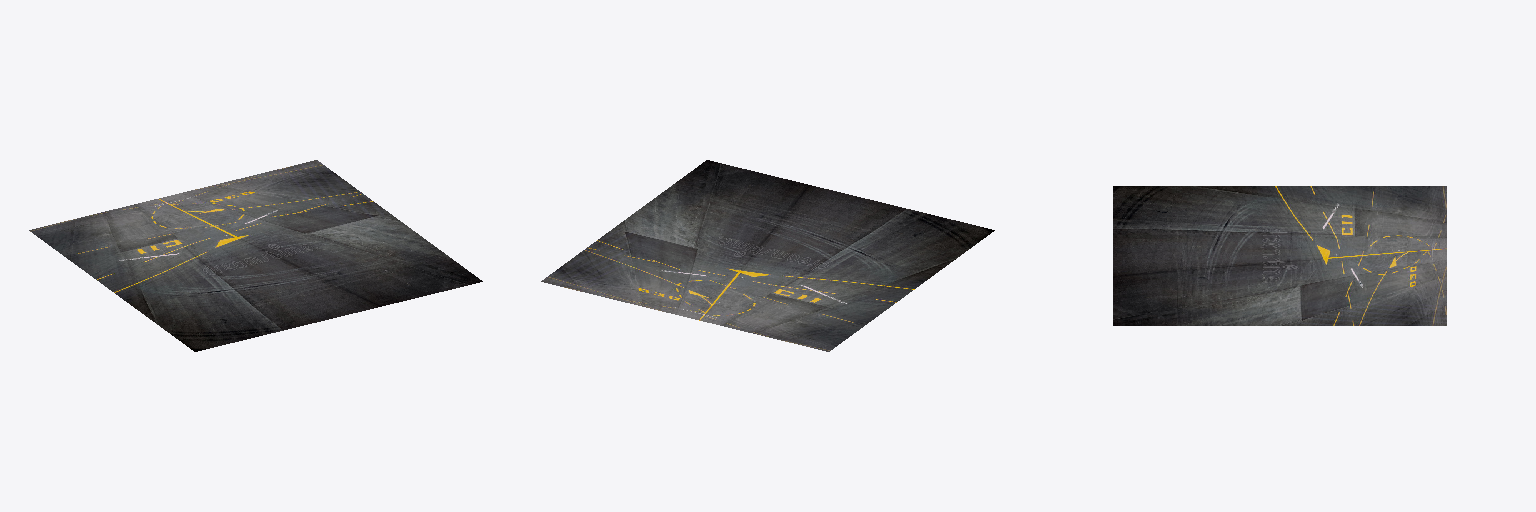
The picture shows the model from 3 angles: view 1: azimuth 30°, elevation 25°; view 2: azimuth 150°, elevation 25°; view 3: azimuth 270°, elevation 25°; orthographic projection.
Visible parts, largest first — view 1: Floor; view 2: Floor; view 3: Floor.
Part boxes in pixels (x1,y1,x2,y2): Floor: (29,160,482,351); Floor: (541,160,994,351); Floor: (1113,186,1446,325).
Bounding box in the file's own units: 10 × 0 × 10.
1 materials, 1 textured.